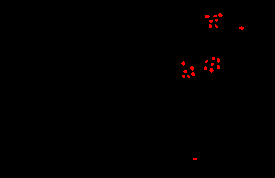Target: (209, 68, 214, 73), (218, 13, 223, 17), (239, 26, 244, 30), (181, 61, 185, 66), (190, 66, 194, 71), (191, 72, 195, 76), (205, 15, 210, 18), (217, 58, 220, 63), (209, 20, 213, 23), (209, 24, 212, 28), (215, 24, 218, 28), (217, 65, 220, 69), (204, 66, 207, 70), (183, 70, 187, 73), (215, 19, 218, 22), (212, 57, 215, 60), (205, 60, 208, 63), (211, 63, 214, 66), (182, 75, 185, 78), (187, 75, 190, 78), (213, 15, 217, 17), (193, 158, 197, 160)
